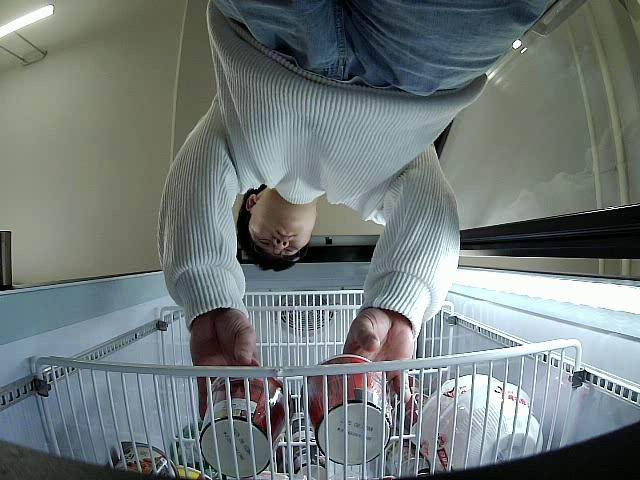00_hand: (342, 312, 414, 400), (185, 314, 262, 378)
02_shinRamen_S: (302, 356, 394, 464), (204, 369, 293, 477)
